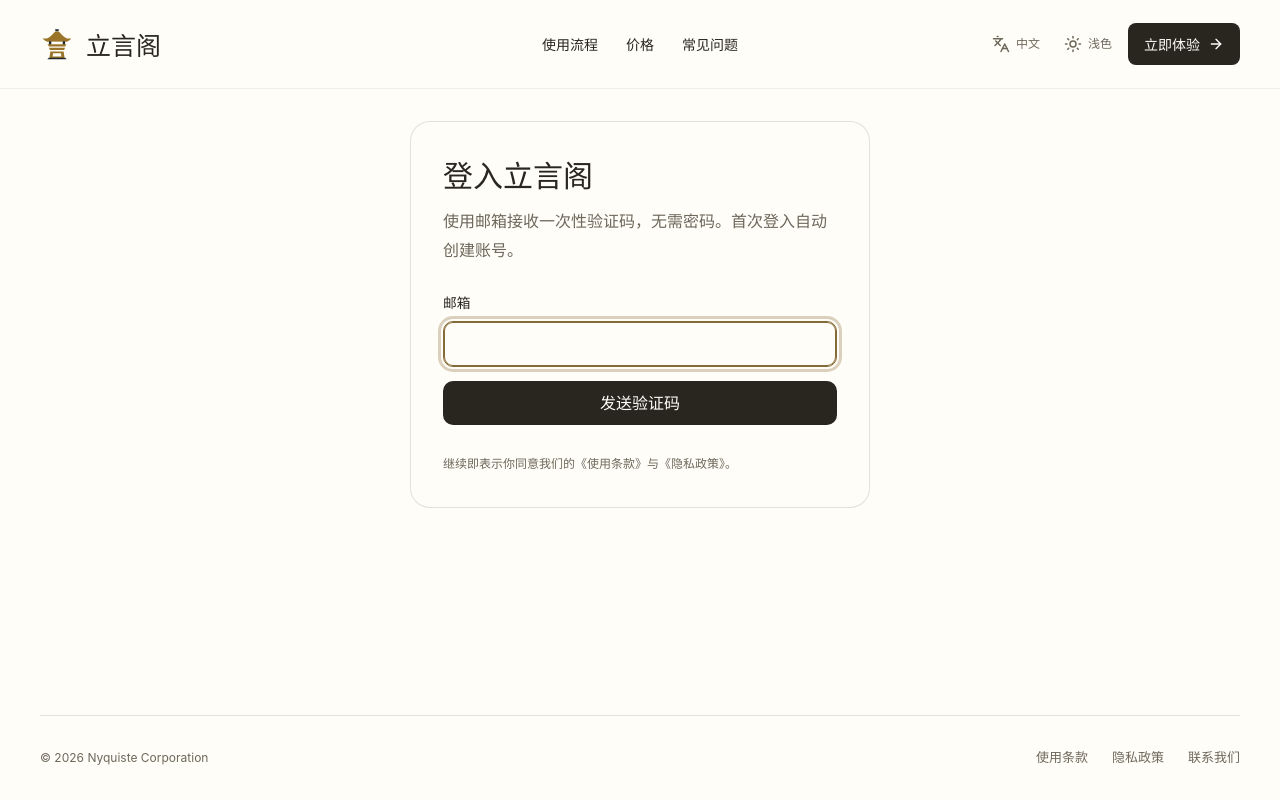
Test: Email OTP sign in › shows a safe denial and clears the session for a non-allowlisted account
Step 1. Type "outsider@example.com" into the field labelled "邮箱" → (640, 344), box x1=443 y1=321 x2=837 y2=367
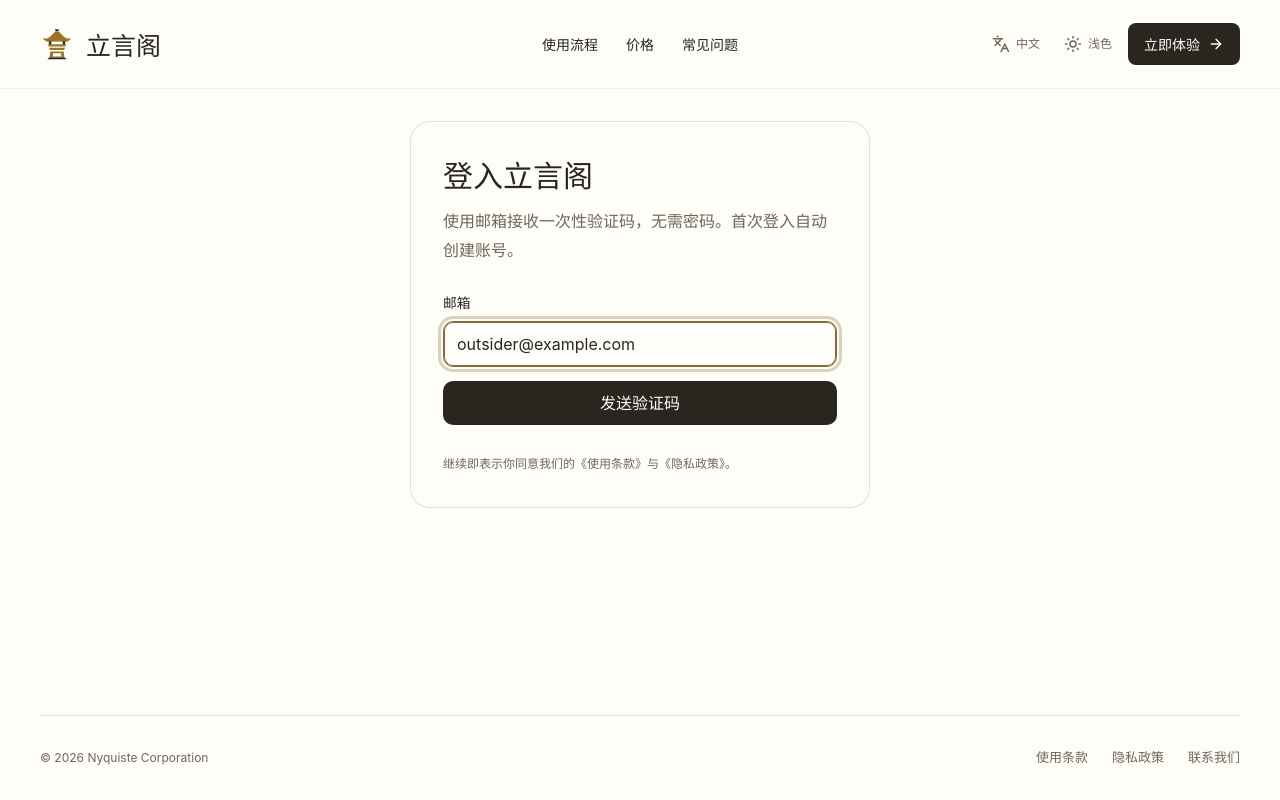
Step 2. Click the button "发送验证码" → click(640, 403), box x1=443 y1=381 x2=837 y2=425
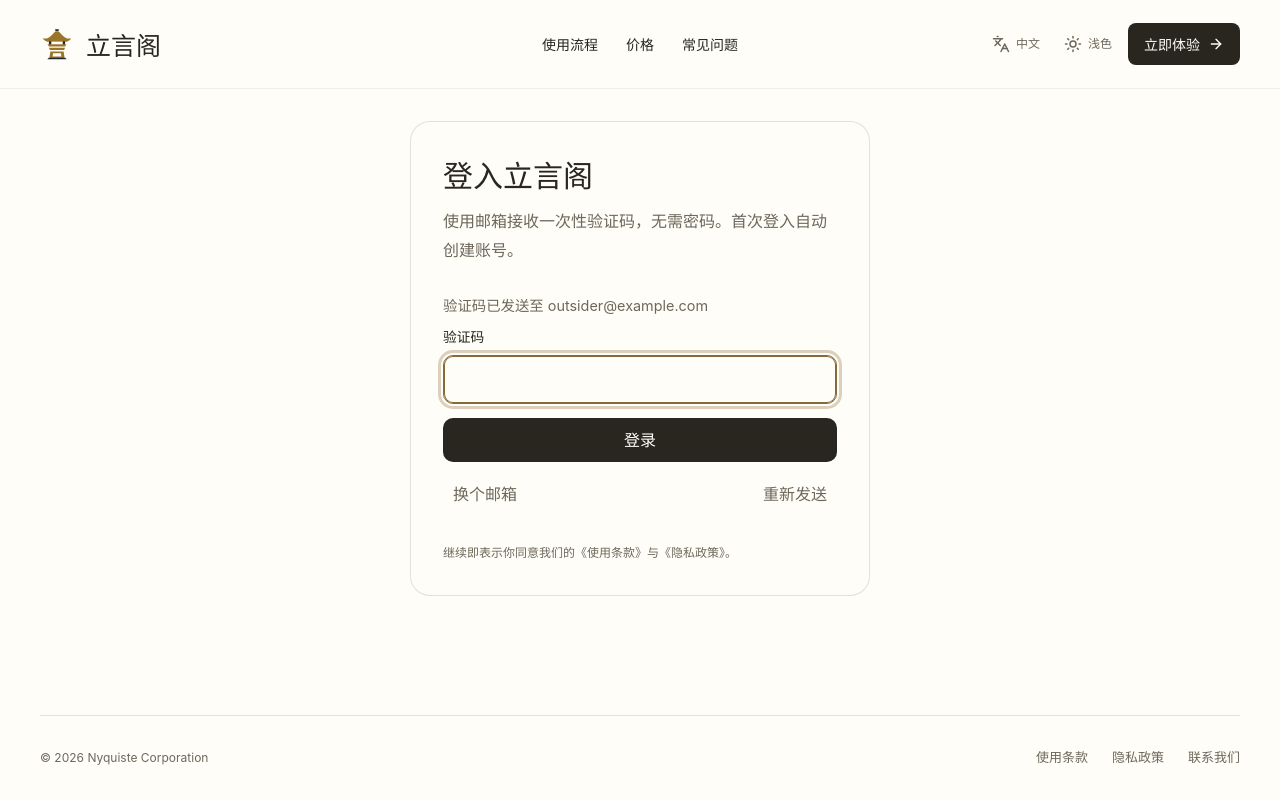
Step 3. Type "123456" into the field labelled "验证码" → (640, 379), box x1=443 y1=355 x2=837 y2=404
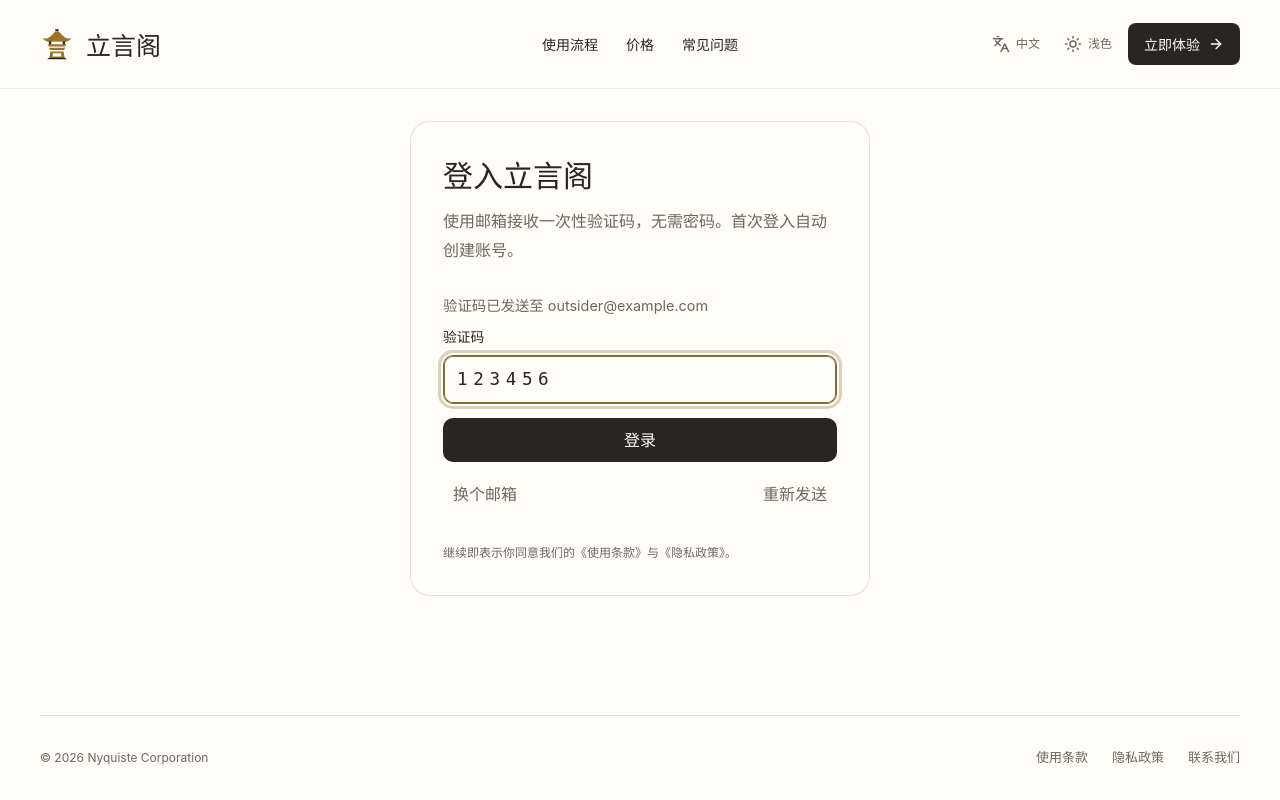
Step 4. Click the button "登录" → click(640, 440), box x1=443 y1=418 x2=837 y2=462
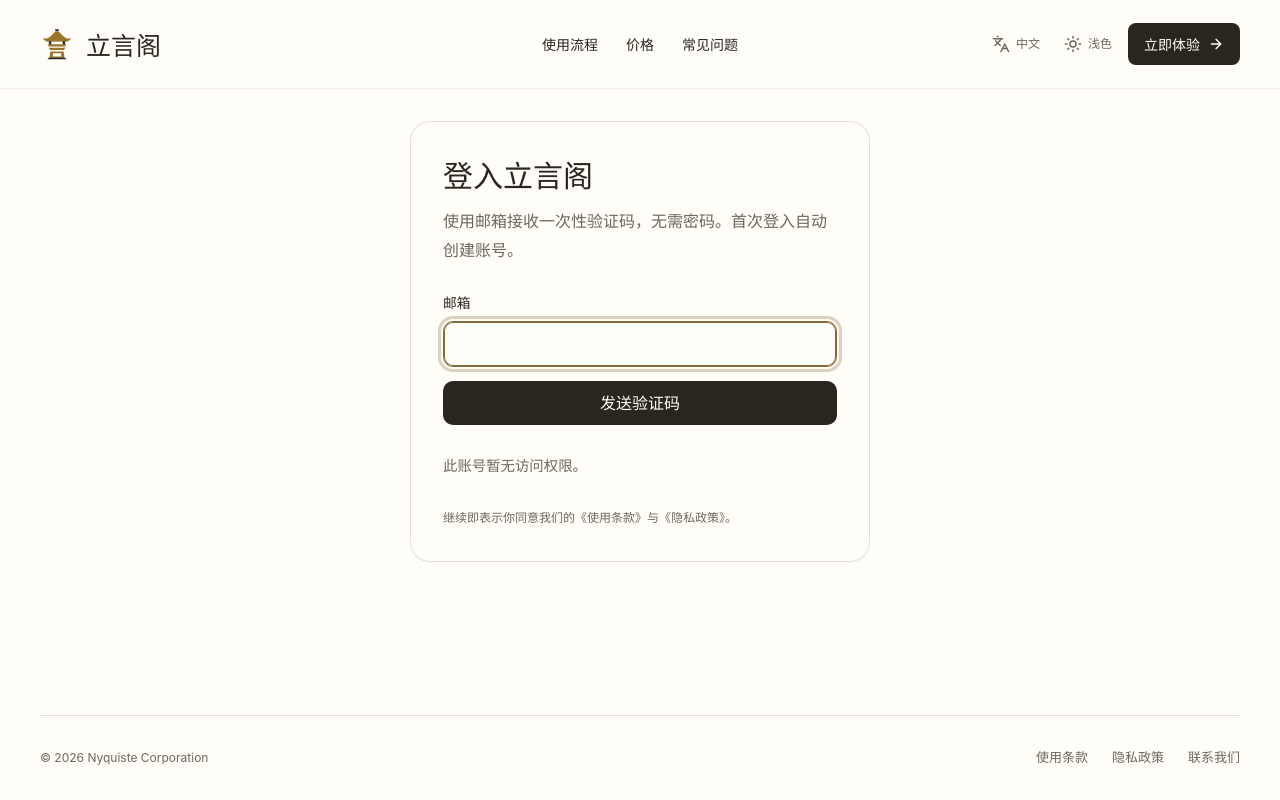
Expected: the message reads "此账号暂无访问权限。", x1=443 y1=457 x2=587 y2=474
